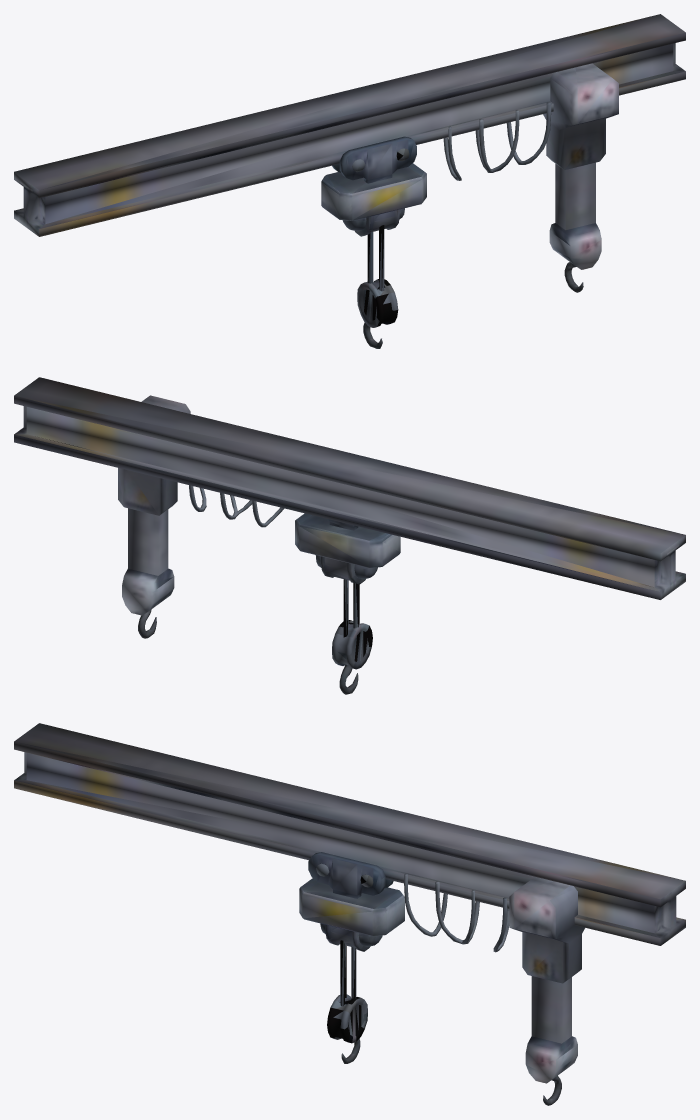
File: 整備庫_02_天車.glb
The picture shows the model from 3 angles, top to bottom: view 1: azimuth 30°, elevation 25°; view 2: azimuth 150°, elevation 25°; view 3: azimuth 330°, elevation 25°; orthographic projection.
Parts seen in each view (by area): view 1: 02_天車; view 2: 02_天車; view 3: 02_天車.
Boxes of the visible parts, <box> form: 02_天車: <box>14,14,685,348</box>; 02_天車: <box>14,377,685,694</box>; 02_天車: <box>14,723,685,1105</box>.
Bounding box in the file's own units: 0.3745 × 0.1328 × 0.0444.
1 material, 1 textured.
